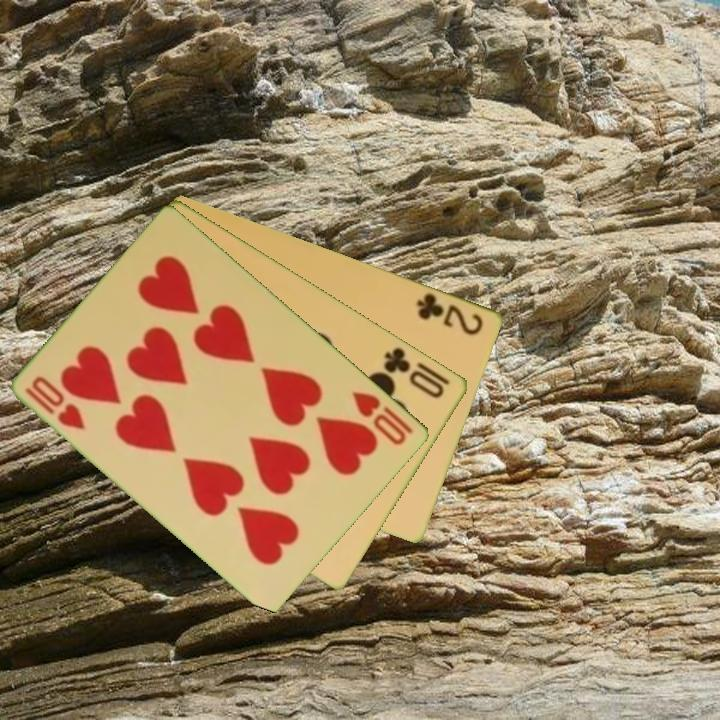10c: (380, 343, 448, 402)
10h: (348, 387, 417, 449), (21, 372, 89, 433)
2c: (413, 289, 487, 338)
